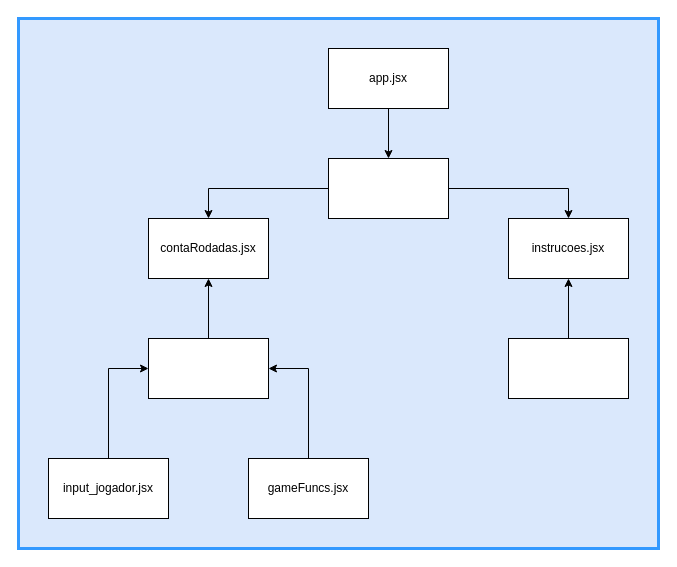
This 677x567 diagram has some shape labels left out. The shapes that lost their labels are listed below. From the top down, each one's centre as x and y in pixels, then its label:
the point at 388,188: menuGame.jsx
the point at 208,368: rodada.jsx
the point at 568,368: manual.jsx
